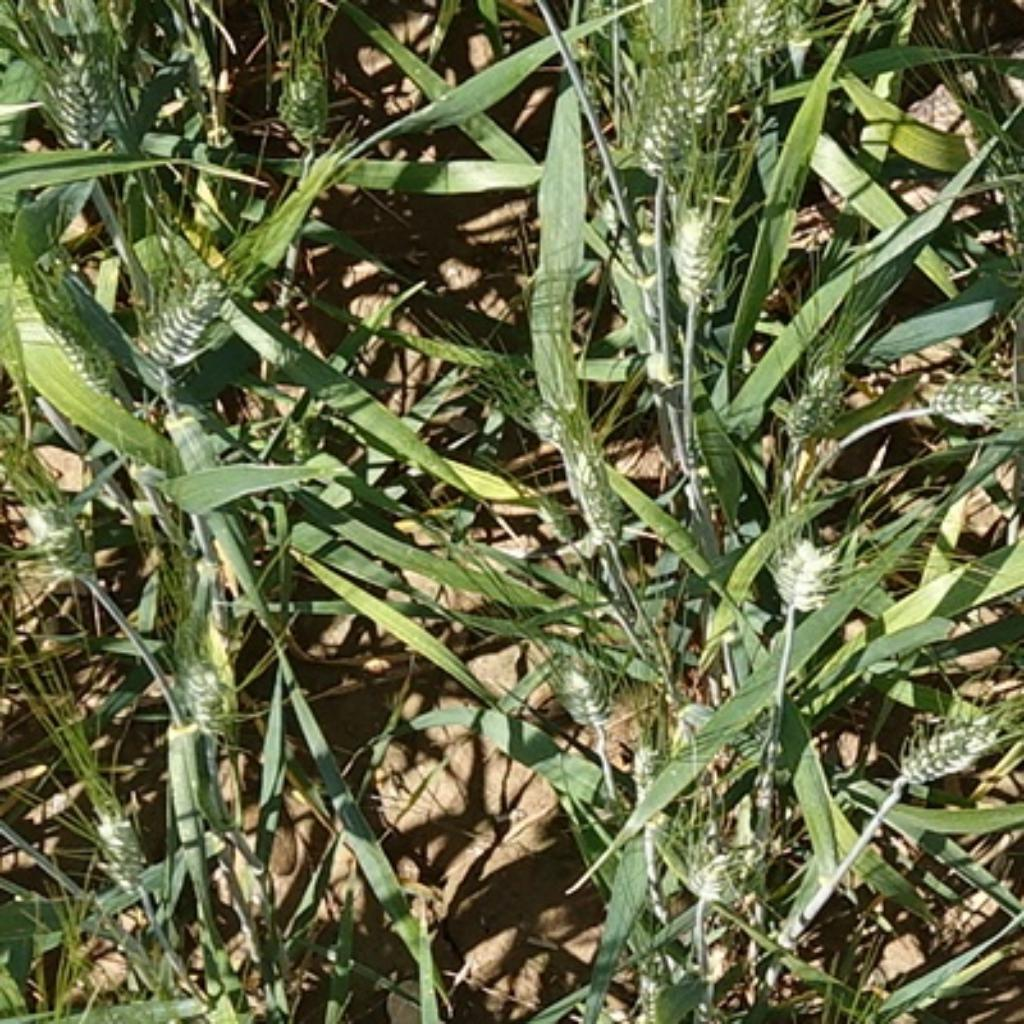0-0: (537, 384, 634, 545), (885, 688, 1006, 785), (143, 271, 239, 379), (532, 622, 622, 727), (770, 335, 855, 437), (84, 788, 158, 893), (637, 76, 708, 179), (269, 39, 341, 139), (76, 967, 202, 1024), (762, 522, 839, 606), (919, 355, 1013, 422), (669, 197, 724, 307), (48, 50, 107, 152), (622, 714, 683, 806), (171, 658, 237, 743), (679, 831, 753, 903), (42, 502, 102, 584), (617, 954, 686, 1023), (522, 486, 586, 555), (731, 2, 791, 61), (686, 73, 735, 130)
